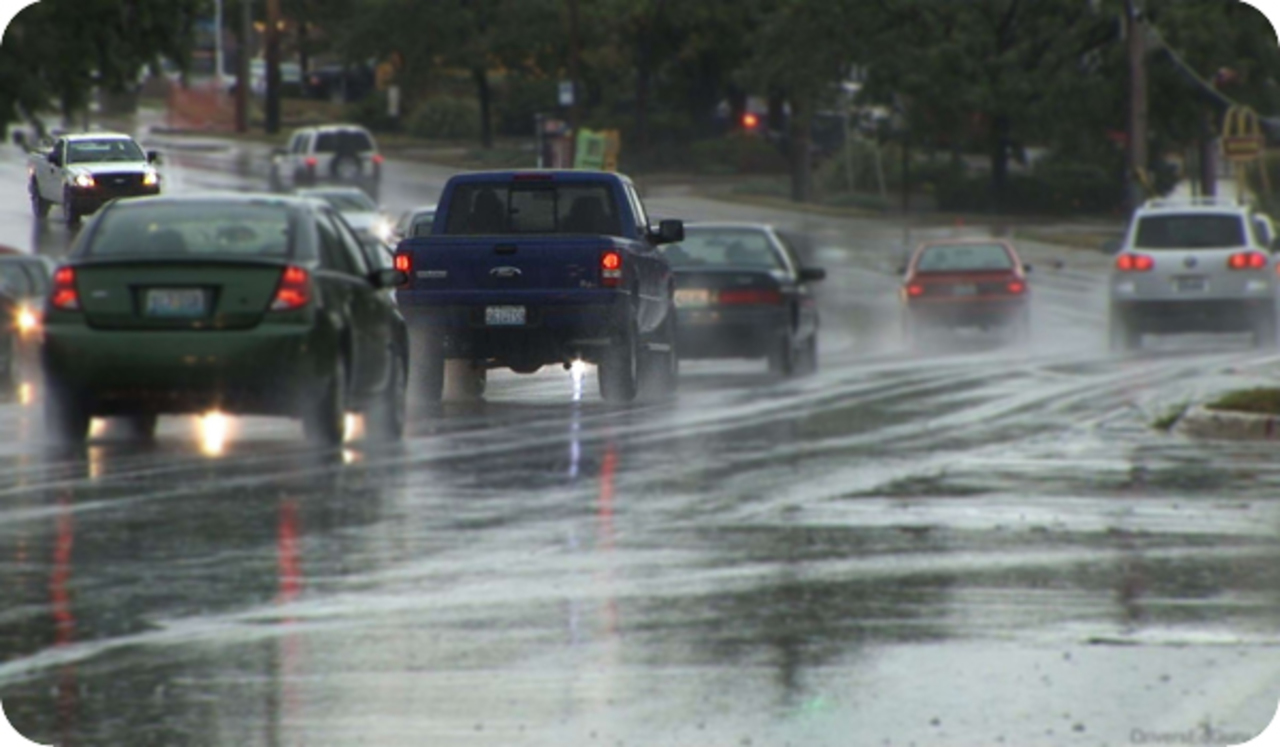car: (27, 192, 413, 450), (391, 168, 684, 405), (1107, 198, 1277, 354), (660, 220, 827, 378), (29, 133, 162, 236), (895, 238, 1033, 334), (277, 124, 382, 193)
